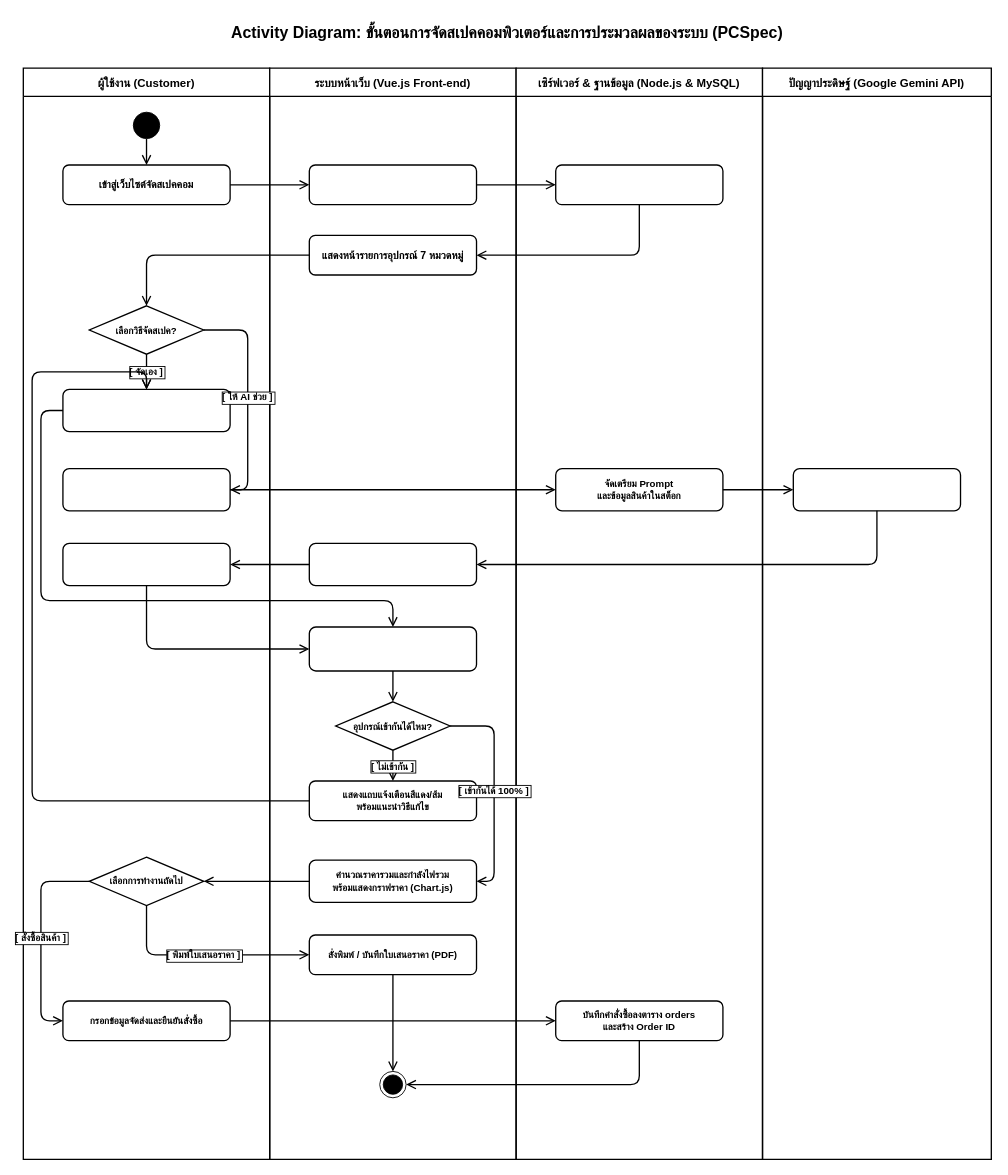
The diagram is 1008 pixels wide and 1175 high, and some of its shapes have lost their labels. Each missing label, with the centre of its shape:
"กดปุ่มนำสเปคลงตะกร้าอัตโนมัติ" goes at (146,564).
"ดึงข้อมูลชิ้นส่วน 7 หมวดหมู่จาก MySQL" goes at (639,184).
"ตรวจสอบความเข้ากันได้ Real-time: Socket, RAM Type, วัตต์ไฟ PSU" goes at (392,648).
"ประมวลผลแนะนำชุดสเปค ที่เหมาะสมในรูปแบบ JSON" goes at (876,489).
"ส่งคำขอดึงแคตตาล็อกสินค้า" goes at (392,184).
"เปิดแชตบอต ระบุงบประมาณ และลักษณะการใช้งาน" goes at (146,489).
"เลือกชิ้นส่วนทีละหมวดหมู่ (CPU, MB, RAM, GPU ฯลฯ)" goes at (146,410).
"แสดงข้อความตอบกลับ และชุดสเปคที่ AI แนะนำ" goes at (392,564).
